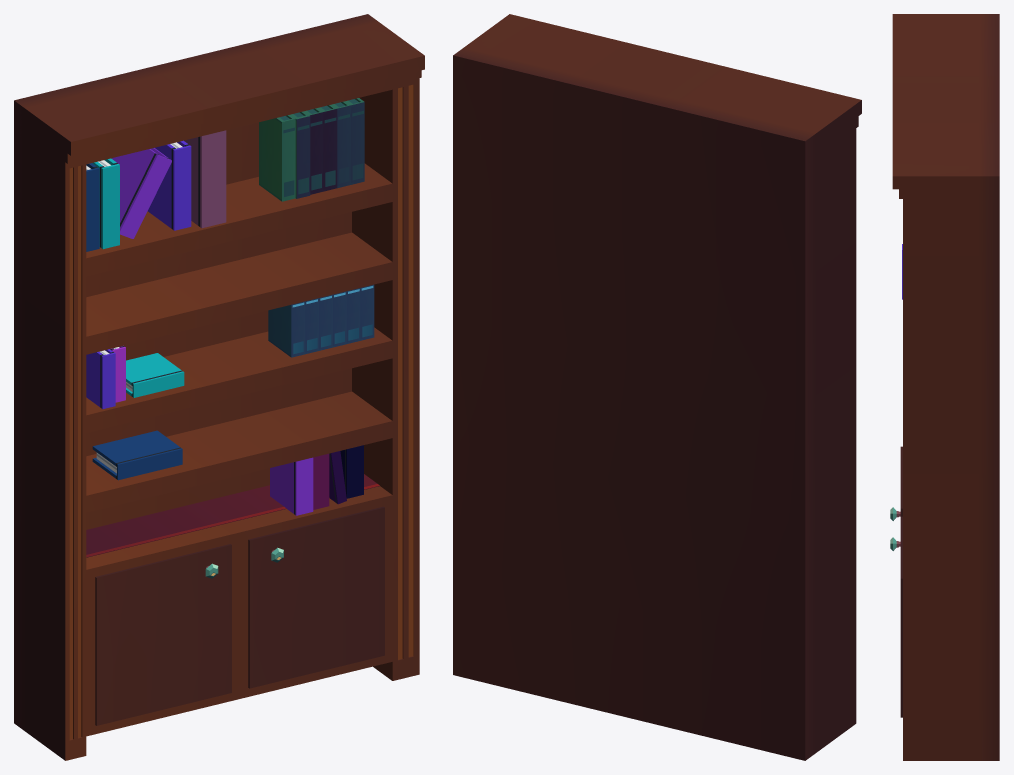
File: TownOffice_Bookshelf04.fbx
3 renders of one model, left to right at view 1: azimuth 30°, elevation 25°; view 2: azimuth 150°, elevation 25°; view 3: azimuth 270°, elevation 25°, orthographic. The views are drawn at different scales.
Visible parts, largest first — view 1: Cube.329; view 2: Cube.329; view 3: Cube.329.
Part boxes in pixels (x1,y1,x2,y2): Cube.329: (14, 14, 424, 760); Cube.329: (453, 14, 861, 760); Cube.329: (890, 14, 999, 760).
Size of the model in its own units: 126 by 211 by 35.78.
